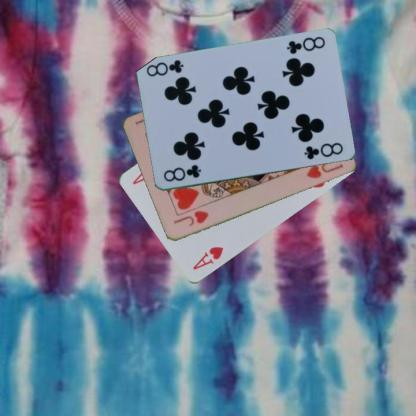8c: (160, 162, 202, 184), (284, 34, 326, 56)
Ah: (190, 244, 225, 272)
Jh: (170, 208, 209, 228)
